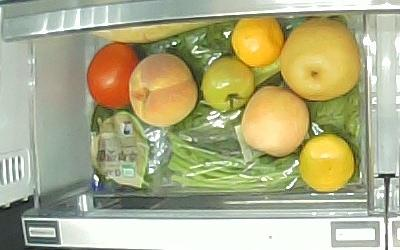peach: (128, 53, 199, 127), (240, 85, 309, 157)
pear: (278, 18, 361, 101)
tangerine: (299, 134, 355, 193), (232, 16, 285, 67)
tomato: (86, 41, 141, 110), (202, 55, 254, 114)
